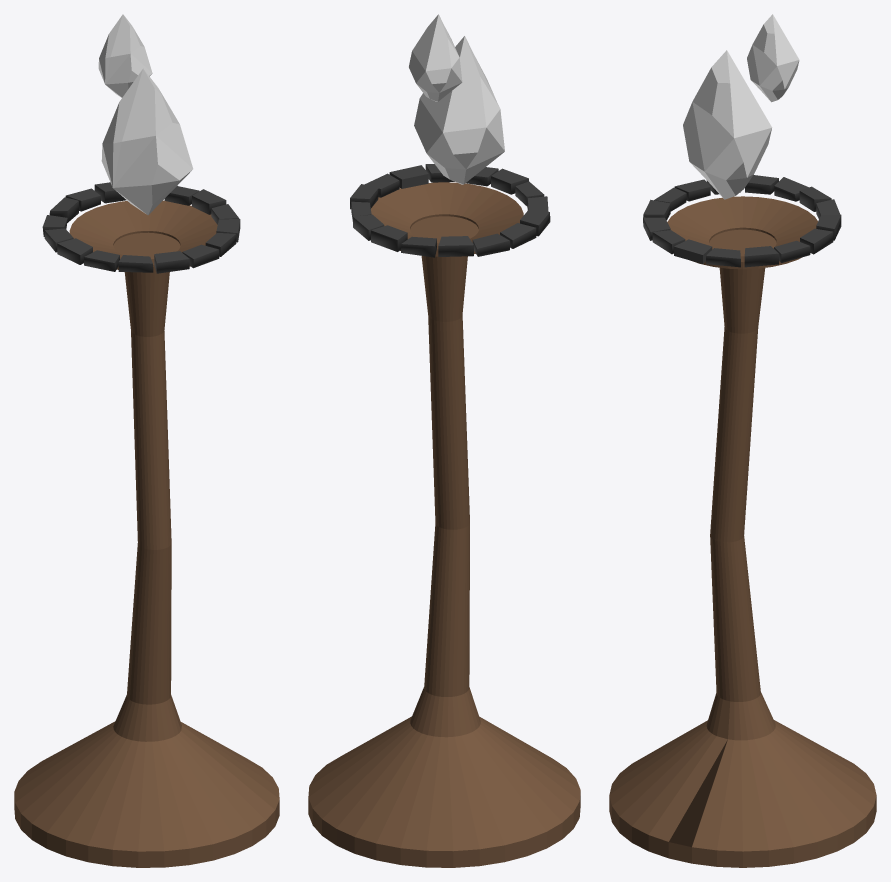
File: svetilnikvisokiy.fbx
3 views of the same model, side by side, from view 1: azimuth 30°, elevation 25°; view 2: azimuth 150°, elevation 25°; view 3: azimuth 270°, elevation 25° (orthographic). The views are drawn at different scales.
Visible parts, largest first — view 1: Crystal1.001; view 2: Crystal1.001; view 3: Crystal1.001.
Part boxes in pixels (<box>): Crystal1.001: <box>14,14,279,867</box>; Crystal1.001: <box>308,14,580,867</box>; Crystal1.001: <box>609,14,876,867</box>.
Size of the model in its own units: 2.47 by 8.08 by 2.47.
